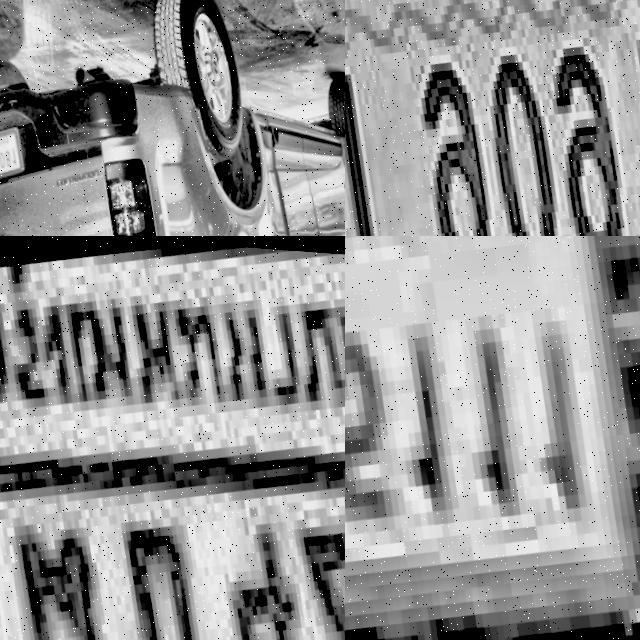license-plate: (0, 236, 345, 640), (345, 236, 640, 640), (345, 0, 640, 236), (0, 118, 31, 185)
